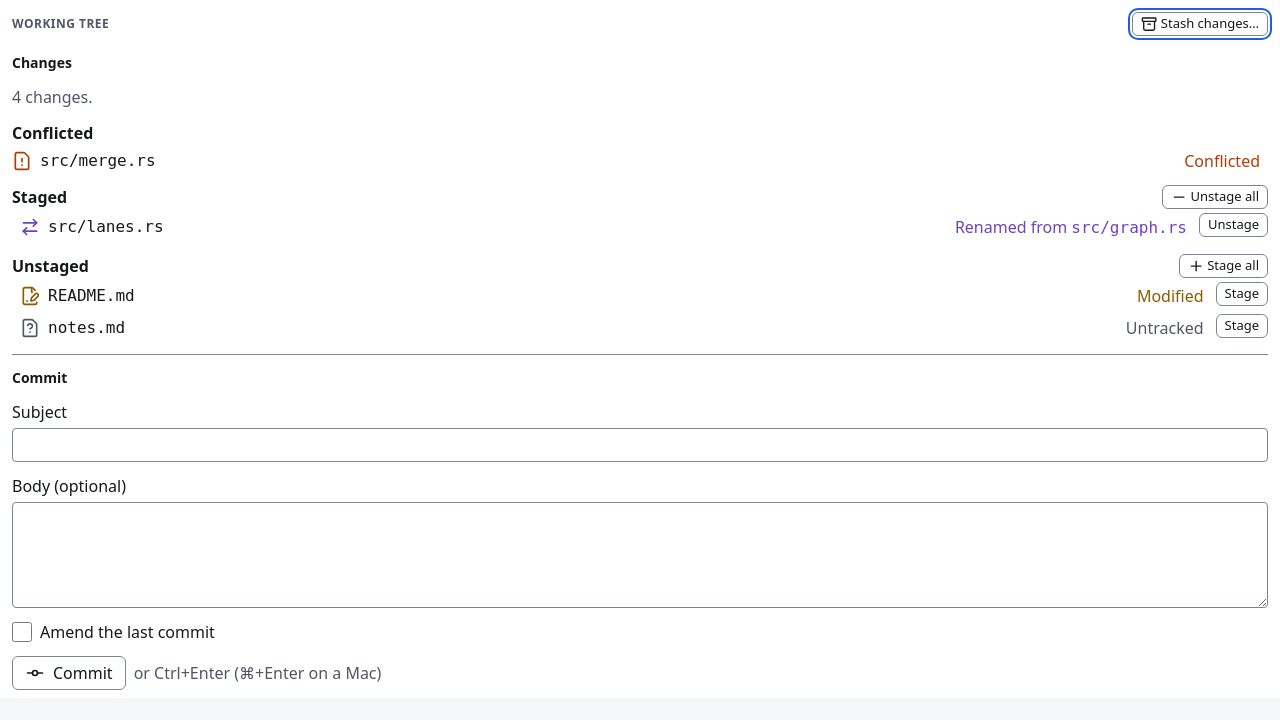
Test: Stash changes stashes the uncommitted changes from the Working tree, with a message and the untracked files
Check: the text "4 changes." is shown, box top-left (12, 86), bottom-right (93, 108)
Press Enter
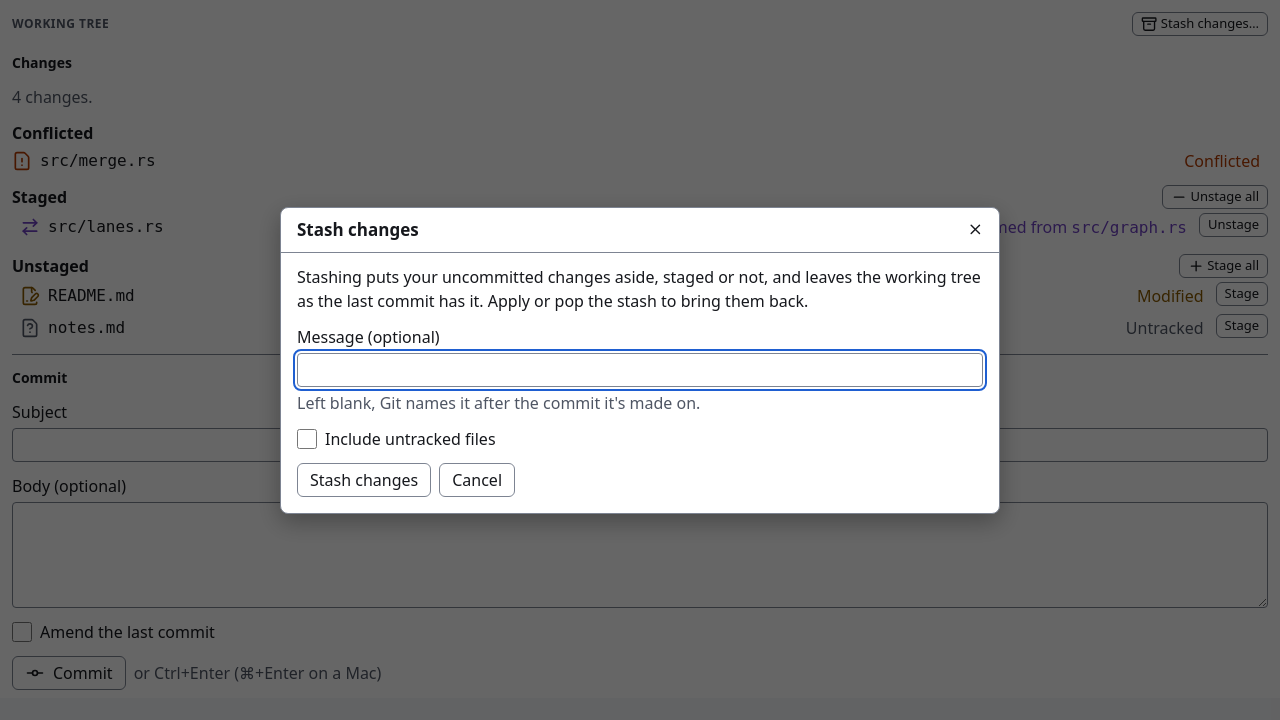
Type keys "Before the merge"
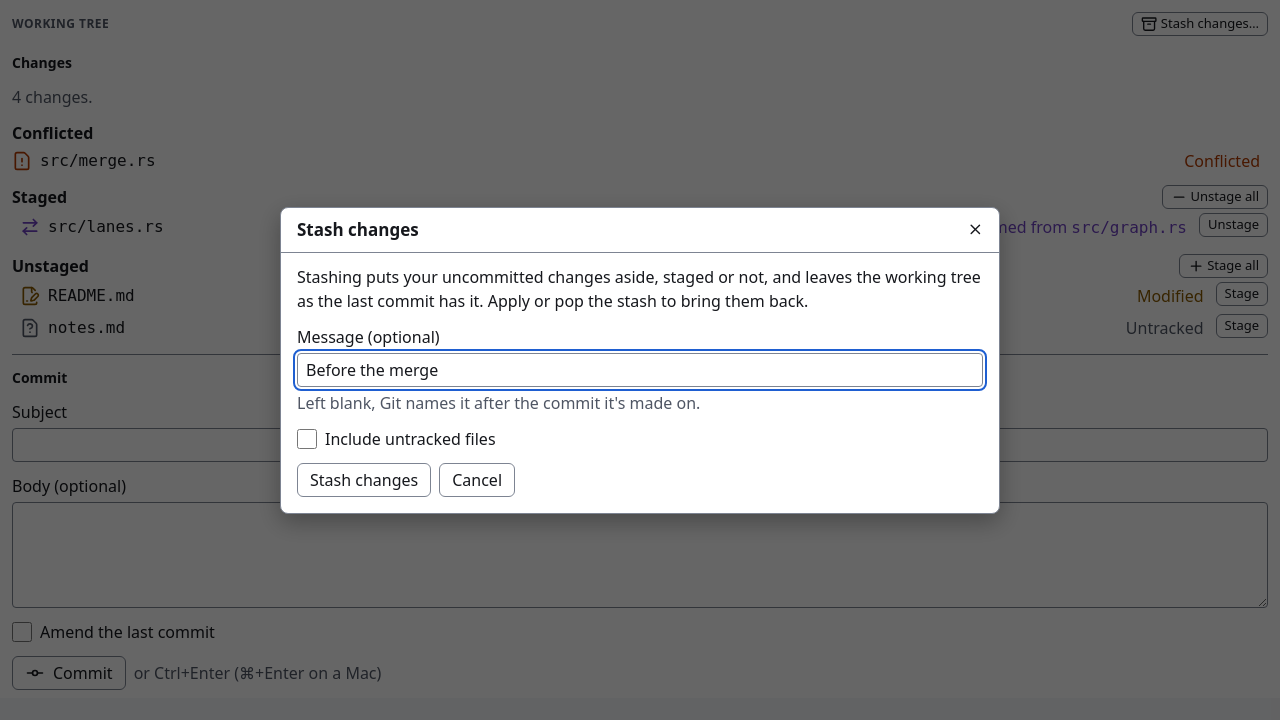
Click the checkbox labelled "Include untracked files": (307, 438) top-left (297, 428), bottom-right (317, 448)
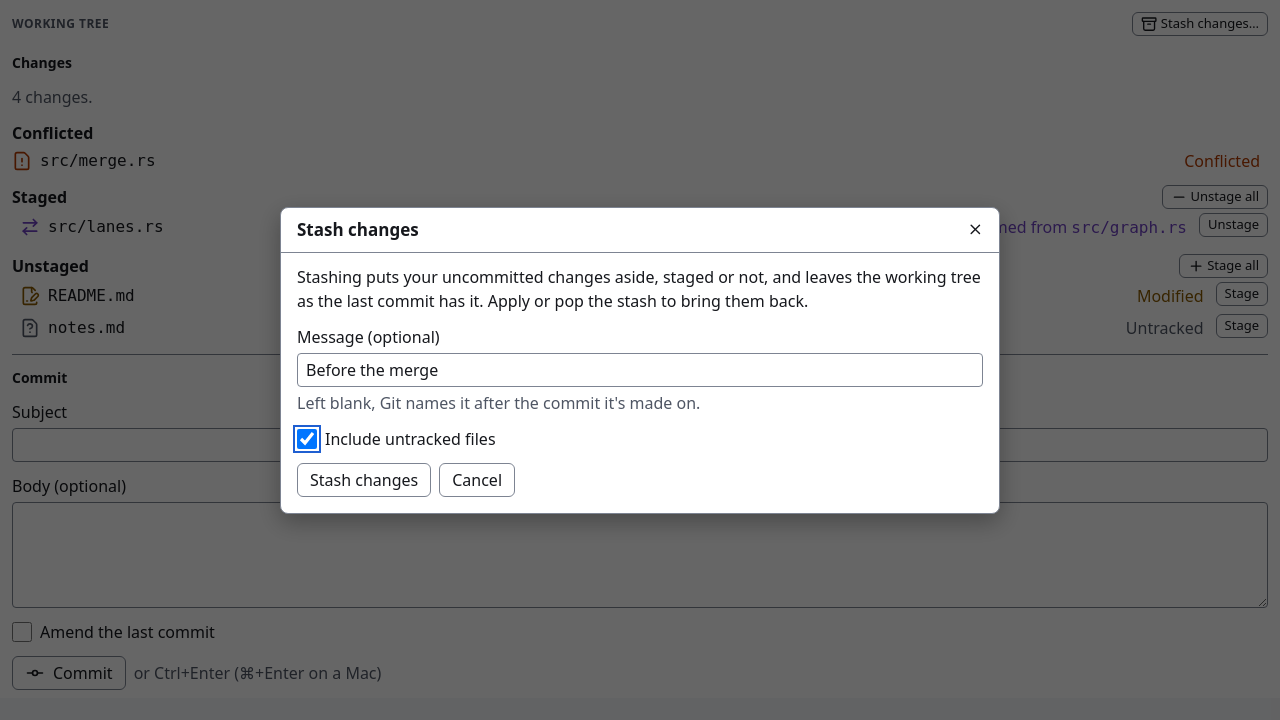
Click the button "Stash changes": (364, 480) top-left (297, 462), bottom-right (431, 496)
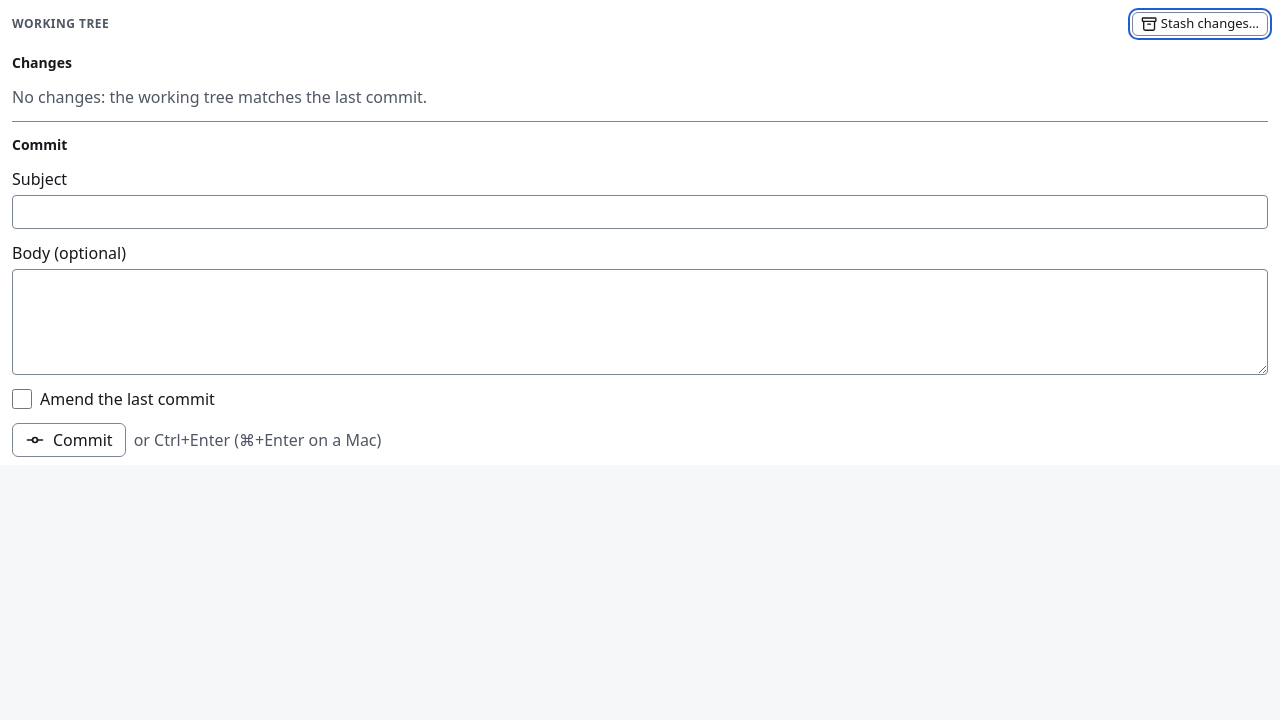
Check: the dialog is gone
Check: the text "No changes: the working tree matches the last commit." is shown, box top-left (12, 86), bottom-right (427, 108)
